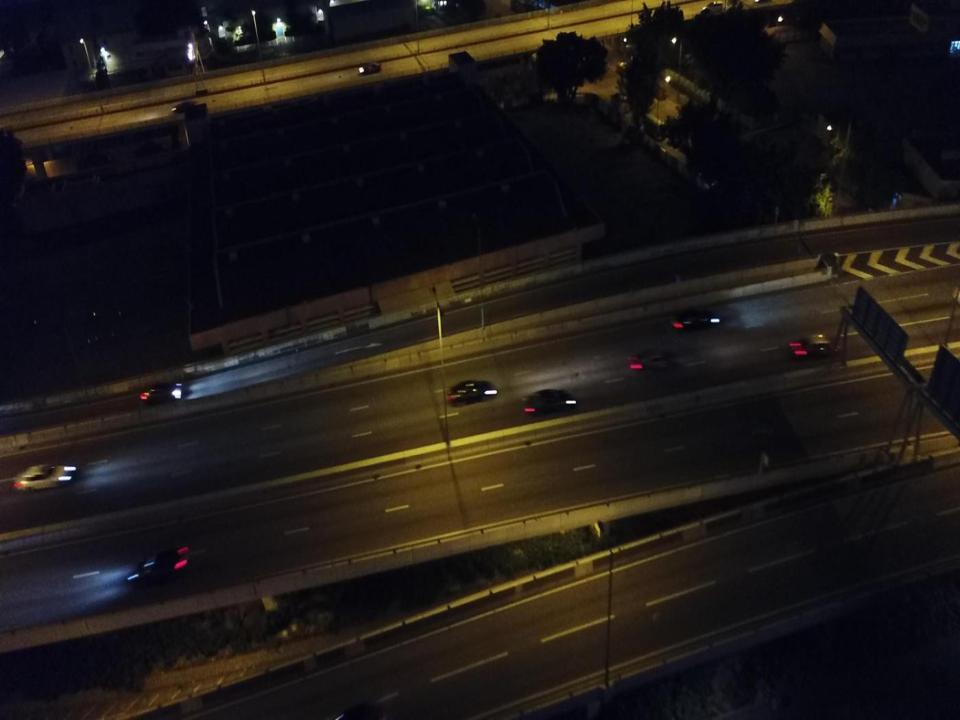car: (128, 547, 186, 587), (15, 466, 72, 492), (525, 389, 576, 414), (448, 380, 496, 405), (673, 308, 720, 331), (630, 350, 682, 370), (795, 336, 836, 360), (138, 383, 182, 405), (175, 103, 202, 114), (362, 63, 381, 74)
